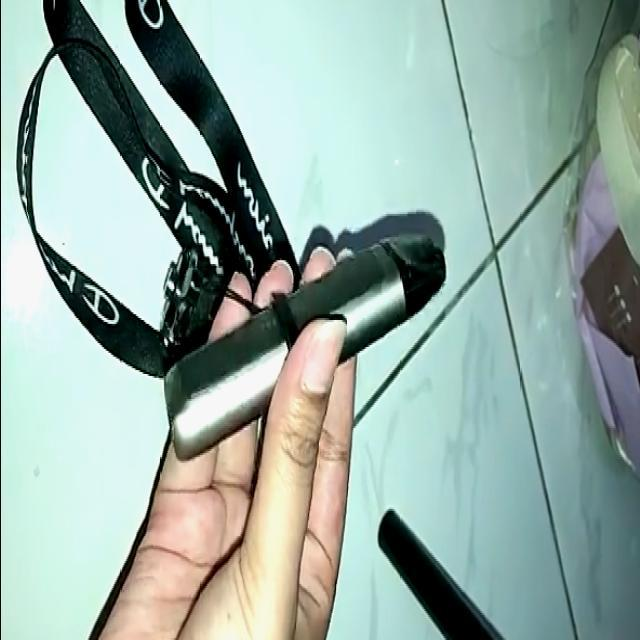Hazard: (164, 208, 446, 462)
